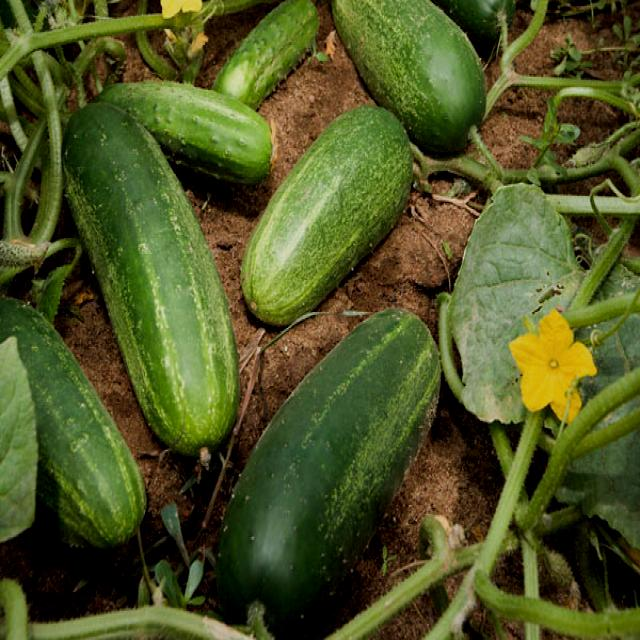cucumber: (217, 298, 452, 636), (55, 104, 259, 475), (238, 107, 418, 333), (1, 292, 144, 565), (332, 1, 489, 161), (93, 73, 273, 189), (211, 2, 325, 108)
